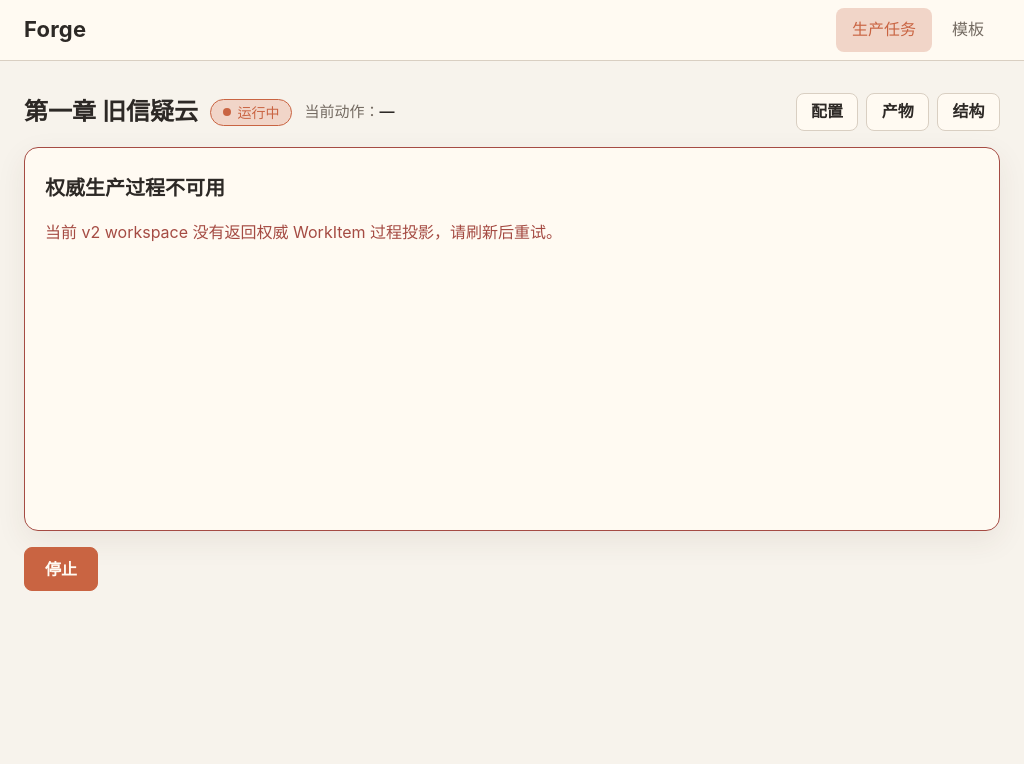
ProductionPage version dispatch (Task 24) › findings tab shows defect class, owner context, lifecycle and locate action
This screenshot has width=1024, height=764.
Click the button "结构".
click(969, 112)  # box x1=937 y1=93 x2=1000 y2=131
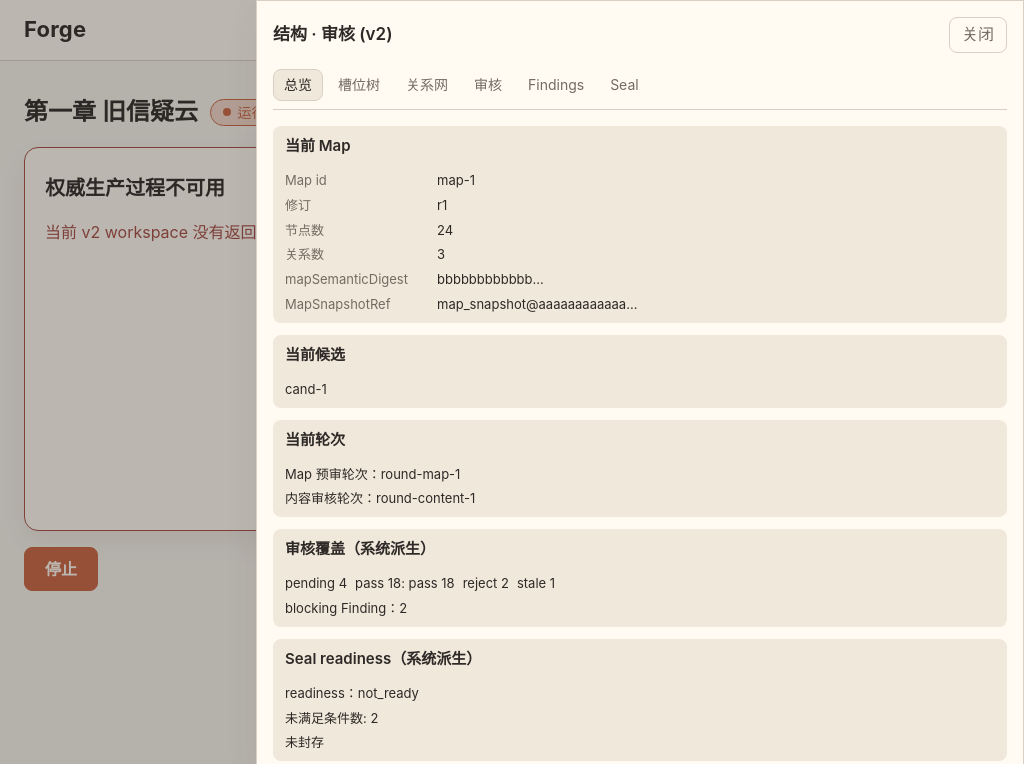
Click the tab "Findings".
click(556, 85)  # box x1=517 y1=69 x2=595 y2=101
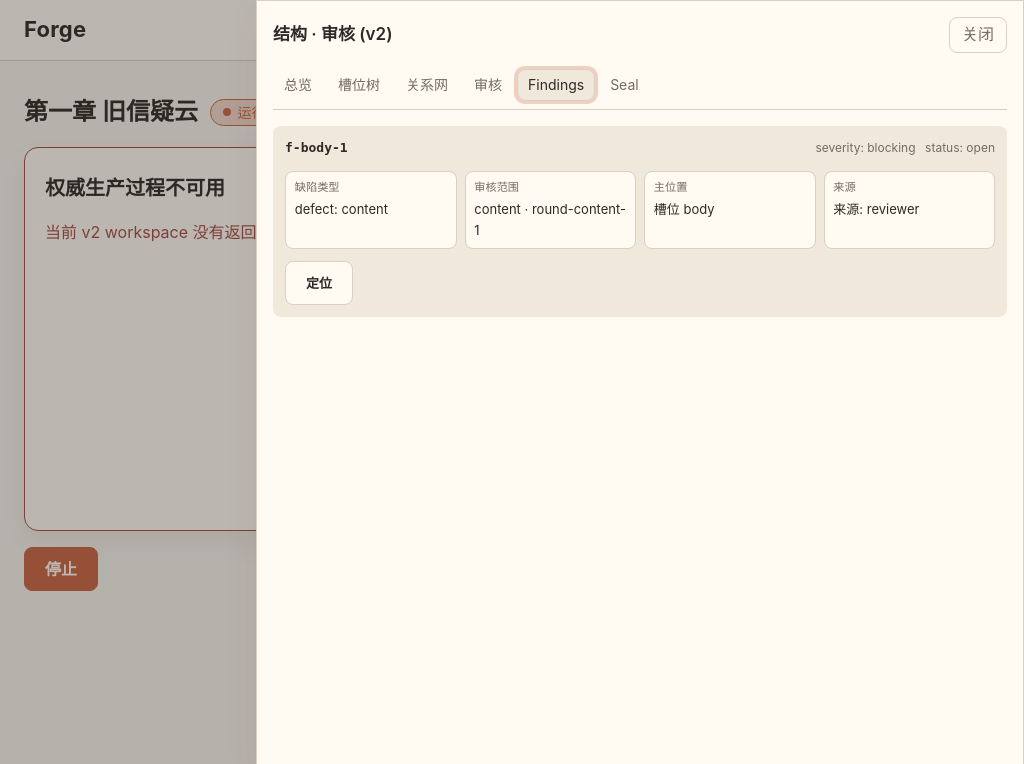
Expected: the text "f-body-1" is shown, x1=285 y1=138 x2=348 y2=159
Expected: the text "defect: content" is shown, x1=295 y1=201 x2=388 y2=217
Expected: the text "来源: reviewer" is shown, x1=833 y1=201 x2=919 y2=217
Click the button with aria-label "定位 finding 主体 body".
click(319, 283)  # box x1=285 y1=261 x2=353 y2=305
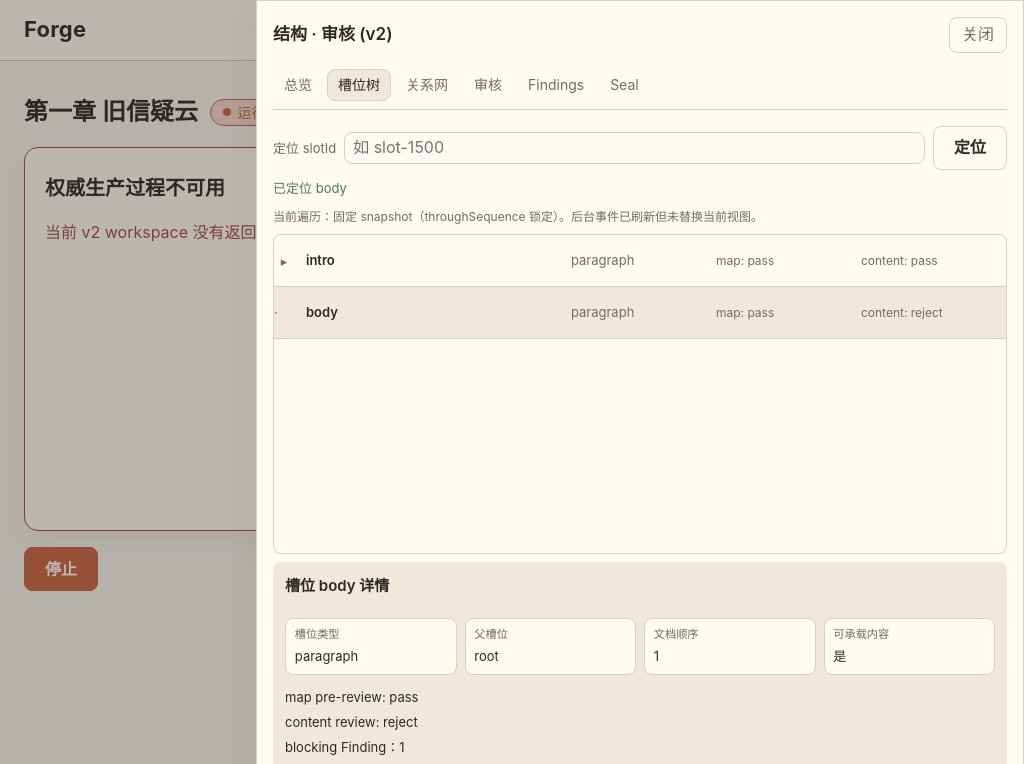
Expected: the message "已定位 body" is shown, x1=273 y1=180 x2=347 y2=196
